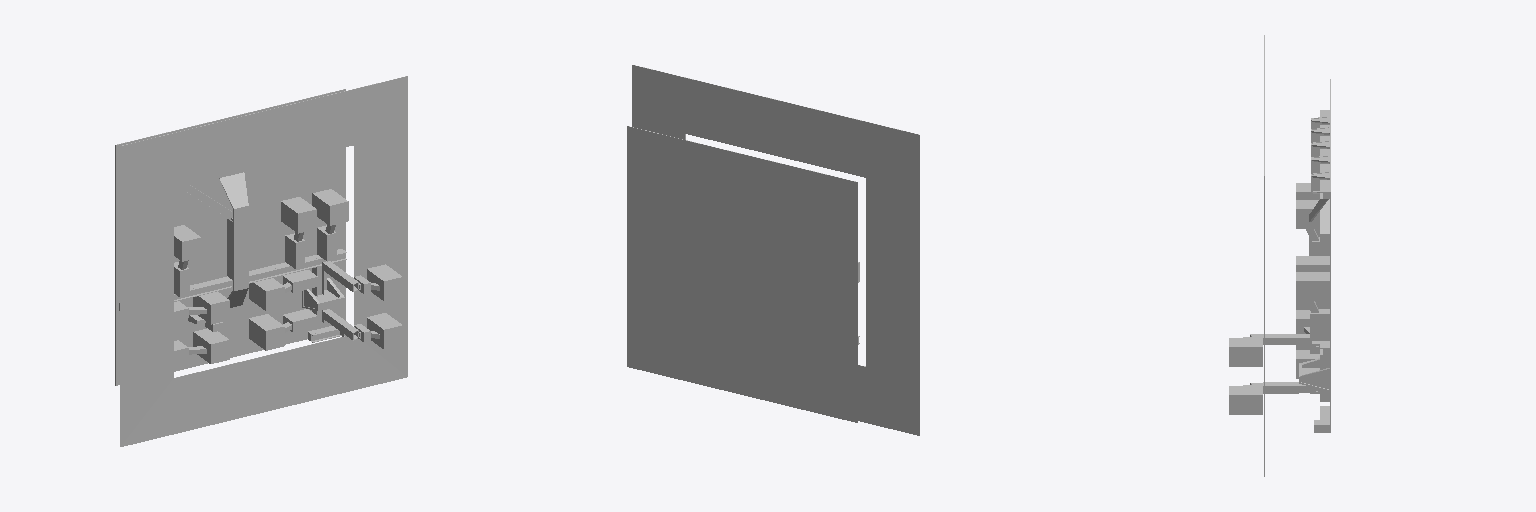
Rendered from basetest1.obj.
3 renders of one model, left to right at view 1: azimuth 30°, elevation 25°; view 2: azimuth 150°, elevation 25°; view 3: azimuth 270°, elevation 25°, orthographic.
Visible parts, largest first — view 1: id_1_model_1; view 2: id_1_model_1; view 3: id_1_model_1.
Part boxes in pixels (x1,y1,x2,y2): id_1_model_1: (115, 76, 407, 446); id_1_model_1: (627, 65, 919, 435); id_1_model_1: (1229, 35, 1330, 476).
Size of the model in its own units: 1424 by 1424 by 437.